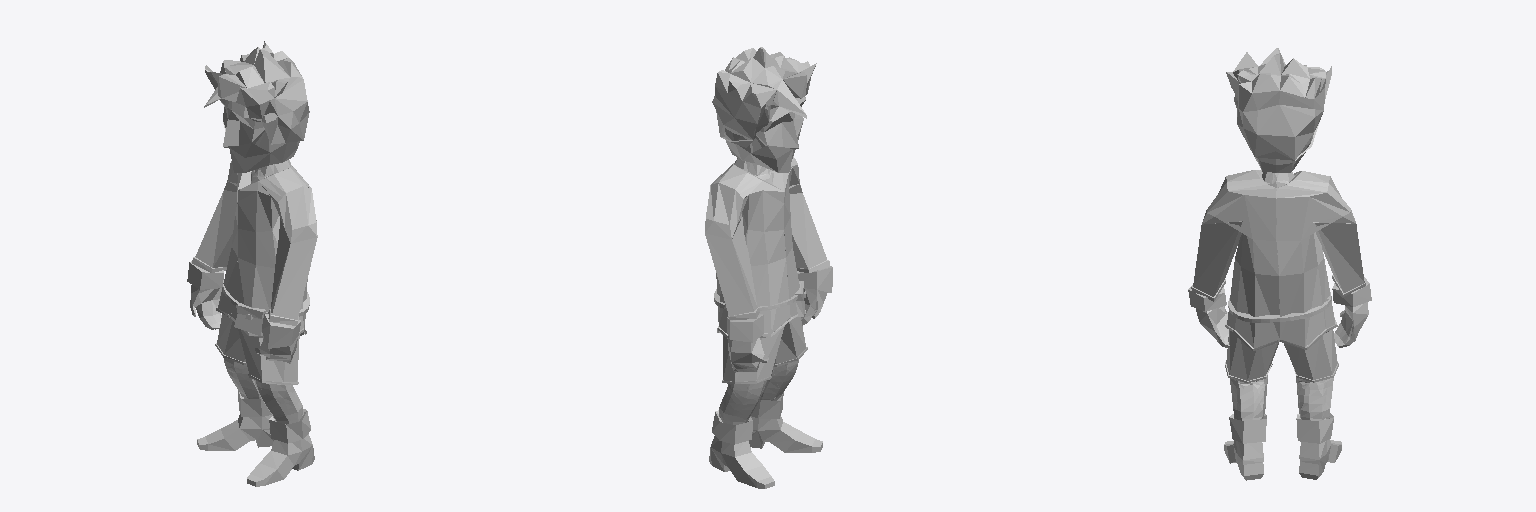
File: idleNoWeapon14.obj
3 views of the same model, side by side, from view 1: azimuth 30°, elevation 25°; view 2: azimuth 150°, elevation 25°; view 3: azimuth 270°, elevation 25° (orthographic).
Visible parts, largest first — view 1: Jacket__jaket_Cylinder.001_Jacket__jaket_Cylinder.001_P_e8d_Jack, Hair_Hair__Cube.000_Hair_Hair__Cube.000_PlayerMaterialOffic_Hair, Head_Head_Cube.000_Head_Head_Cube.000_PlayerMaterialOfficia_Head, Boot_right_bota_Cube.000_Boot_right_bota_Cube.000_Playe_7d6_Boot, Trausers_trausers_Cylinder.000_Trausers_trausers_Cylind_bfd_Trau, Humanoide_Body_Base_Modified_Humanoide_Base_Base_NPC__c_7f8_Huma, Boot_left_bota_Cube.001_Boot_left_bota_Cube.001_PlayerM_5d3_Boot, Globe_left_globe_Cylinder.001_Globe_left_globe_Cylinder_383_Glob, Globe_right_globe_Cylinder.005_Globe_right_globe_Cylind_70e_Glob, Bag_Cube_Cube.001_Bag_Cube_Cube.001_PlayerMaterialOfficial.001_B; view 2: Jacket__jaket_Cylinder.001_Jacket__jaket_Cylinder.001_P_e8d_Jack, Hair_Hair__Cube.000_Hair_Hair__Cube.000_PlayerMaterialOffic_Hair, Head_Head_Cube.000_Head_Head_Cube.000_PlayerMaterialOfficia_Head, Boot_left_bota_Cube.001_Boot_left_bota_Cube.001_PlayerM_5d3_Boot, Humanoide_Body_Base_Modified_Humanoide_Base_Base_NPC__c_7f8_Huma, Trausers_trausers_Cylinder.000_Trausers_trausers_Cylind_bfd_Trau, Boot_right_bota_Cube.000_Boot_right_bota_Cube.000_Playe_7d6_Boot, Globe_left_globe_Cylinder.001_Globe_left_globe_Cylinder_383_Glob, Globe_right_globe_Cylinder.005_Globe_right_globe_Cylind_70e_Glob; view 3: Jacket__jaket_Cylinder.001_Jacket__jaket_Cylinder.001_P_e8d_Jack, Hair_Hair__Cube.000_Hair_Hair__Cube.000_PlayerMaterialOffic_Hair, Trausers_trausers_Cylinder.000_Trausers_trausers_Cylind_bfd_Trau, Humanoide_Body_Base_Modified_Humanoide_Base_Base_NPC__c_7f8_Huma, Boot_left_bota_Cube.001_Boot_left_bota_Cube.001_PlayerM_5d3_Boot, Boot_right_bota_Cube.000_Boot_right_bota_Cube.000_Playe_7d6_Boot, Globe_left_globe_Cylinder.001_Globe_left_globe_Cylinder_383_Glob, Globe_right_globe_Cylinder.005_Globe_right_globe_Cylind_70e_Glob, Belt_Cylinder.001_Belt_Cylinder.001_PlayerMaterialOfficial.001_B, Head_Head_Cube.000_Head_Head_Cube.000_PlayerMaterialOfficia_Head.
Part boxes in pixels (left/top/right/bottom): Jacket__jaket_Cylinder.001_Jacket__jaket_Cylinder.001_P_e8d_Jack: left=192, top=161, right=317, bottom=338; Hair_Hair__Cube.000_Hair_Hair__Cube.000_PlayerMaterialOffic_Hair: left=204, top=41, right=309, bottom=144; Head_Head_Cube.000_Head_Head_Cube.000_PlayerMaterialOfficia_Head: left=220, top=99, right=299, bottom=172; Boot_right_bota_Cube.000_Boot_right_bota_Cube.000_Playe_7d6_Boot: left=247, top=409, right=314, bottom=486; Trausers_trausers_Cylinder.000_Trausers_trausers_Cylind_bfd_Trau: left=215, top=314, right=299, bottom=384; Humanoide_Body_Base_Modified_Humanoide_Base_Base_NPC__c_7f8_Huma: left=223, top=160, right=303, bottom=424; Boot_left_bota_Cube.001_Boot_left_bota_Cube.001_PlayerM_5d3_Boot: left=197, top=391, right=273, bottom=450; Globe_left_globe_Cylinder.001_Globe_left_globe_Cylinder_383_Glob: left=187, top=261, right=223, bottom=329; Globe_right_globe_Cylinder.005_Globe_right_globe_Cylind_70e_Glob: left=255, top=314, right=300, bottom=363; Bag_Cube_Cube.001_Bag_Cube_Cube.001_PlayerMaterialOfficial.001_B: left=234, top=303, right=266, bottom=335; Jacket__jaket_Cylinder.001_Jacket__jaket_Cylinder.001_P_e8d_Jack: left=705, top=156, right=829, bottom=337; Hair_Hair__Cube.000_Hair_Hair__Cube.000_PlayerMaterialOffic_Hair: left=712, top=47, right=816, bottom=147; Head_Head_Cube.000_Head_Head_Cube.000_PlayerMaterialOfficia_Head: left=724, top=97, right=805, bottom=172; Boot_left_bota_Cube.001_Boot_left_bota_Cube.001_PlayerM_5d3_Boot: left=709, top=410, right=774, bottom=488; Humanoide_Body_Base_Modified_Humanoide_Base_Base_NPC__c_7f8_Huma: left=719, top=158, right=798, bottom=424; Trausers_trausers_Cylinder.000_Trausers_trausers_Cylind_bfd_Trau: left=722, top=317, right=807, bottom=383; Boot_right_bota_Cube.000_Boot_right_bota_Cube.000_Playe_7d6_Boot: left=749, top=392, right=822, bottom=452; Globe_left_globe_Cylinder.001_Globe_left_globe_Cylinder_383_Glob: left=727, top=314, right=768, bottom=372; Globe_right_globe_Cylinder.005_Globe_right_globe_Cylind_70e_Glob: left=797, top=266, right=832, bottom=325; Jacket__jaket_Cylinder.001_Jacket__jaket_Cylinder.001_P_e8d_Jack: left=1191, top=170, right=1365, bottom=350; Hair_Hair__Cube.000_Hair_Hair__Cube.000_PlayerMaterialOffic_Hair: left=1226, top=48, right=1331, bottom=160; Trausers_trausers_Cylinder.000_Trausers_trausers_Cylind_bfd_Trau: left=1225, top=329, right=1338, bottom=383; Humanoide_Body_Base_Modified_Humanoide_Base_Base_NPC__c_7f8_Huma: left=1230, top=172, right=1333, bottom=420; Boot_left_bota_Cube.001_Boot_left_bota_Cube.001_PlayerM_5d3_Boot: left=1296, top=413, right=1341, bottom=479; Boot_right_bota_Cube.000_Boot_right_bota_Cube.000_Playe_7d6_Boot: left=1224, top=414, right=1266, bottom=480; Globe_left_globe_Cylinder.001_Globe_left_globe_Cylinder_383_Glob: left=1332, top=277, right=1371, bottom=347; Globe_right_globe_Cylinder.005_Globe_right_globe_Cylind_70e_Glob: left=1188, top=285, right=1229, bottom=347; Belt_Cylinder.001_Belt_Cylinder.001_PlayerMaterialOfficial.001_B: left=1228, top=292, right=1331, bottom=322; Head_Head_Cube.000_Head_Head_Cube.000_PlayerMaterialOfficia_Head: left=1255, top=131, right=1314, bottom=172.
Bounding box in the file's own units: 9.3 × 39.86 × 16.11.